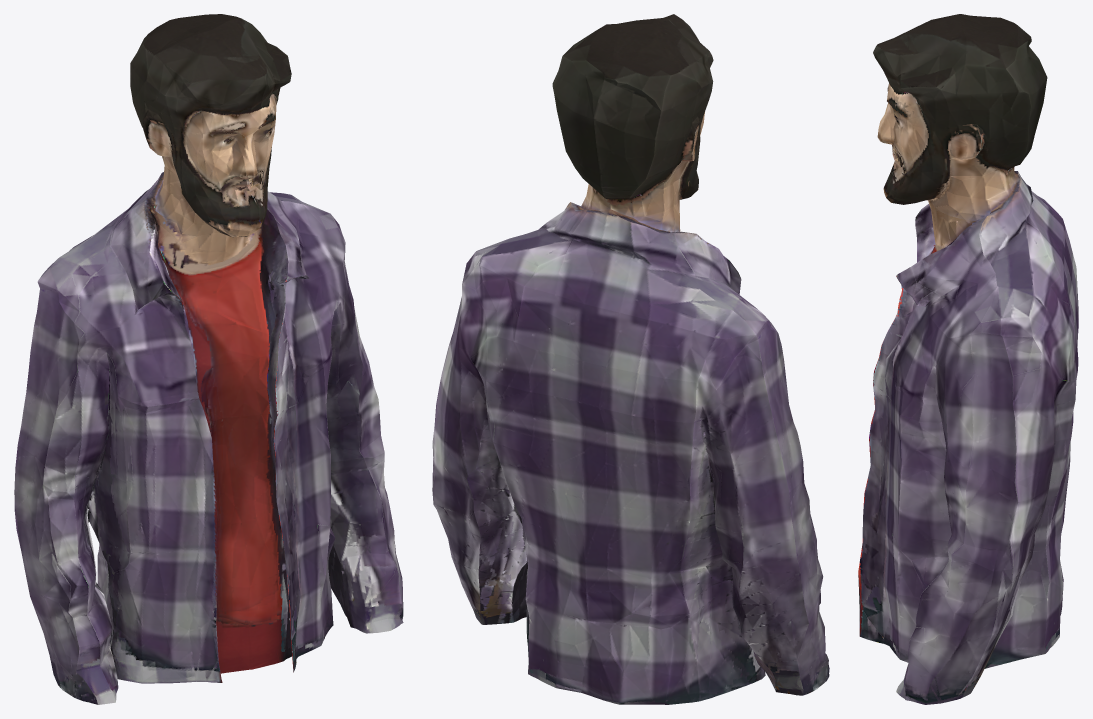
The picture shows the model from 3 angles, left to right: view 1: azimuth 30°, elevation 25°; view 2: azimuth 150°, elevation 25°; view 3: azimuth 270°, elevation 25°; orthographic projection. The views are drawn at different scales.
Visible parts, largest first — view 1: geometry_0; view 2: geometry_0; view 3: geometry_0.
Part boxes in pixels (x1,y1,x2,y2): geometry_0: (14,14,403,704); geometry_0: (432,14,829,704); geometry_0: (858,14,1078,704).
Bounding box in the file's own units: 0.5031 × 0.8284 × 0.2748.
1 material, 1 textured.
